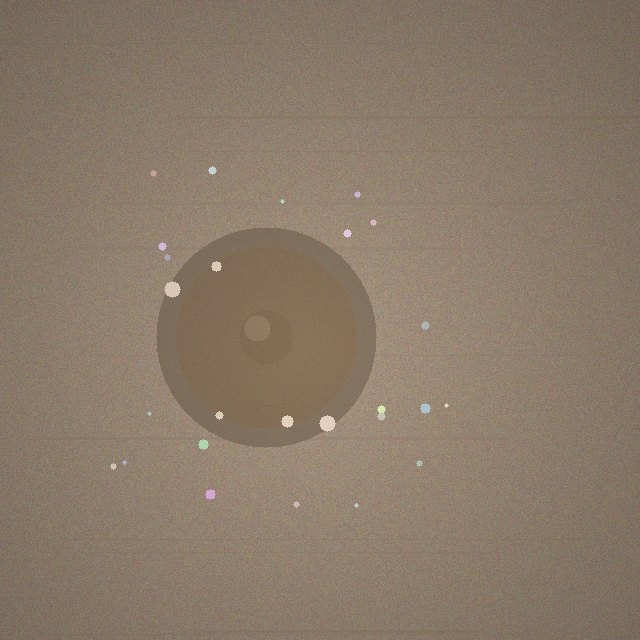overburn: (156, 227, 376, 447)
